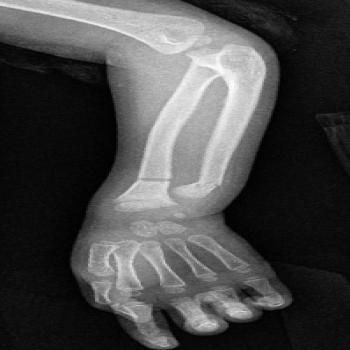Fracture: (131, 170, 178, 188), (190, 177, 232, 191)
